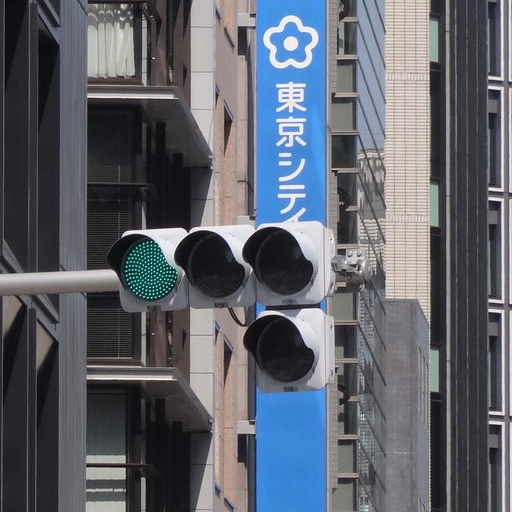Traffic_Signal_Blue: (116, 226, 333, 308)
